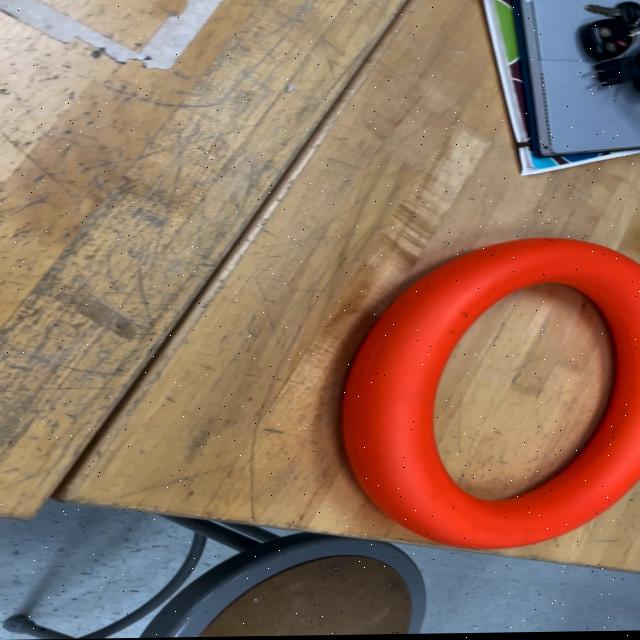note: (342, 240, 640, 552)
